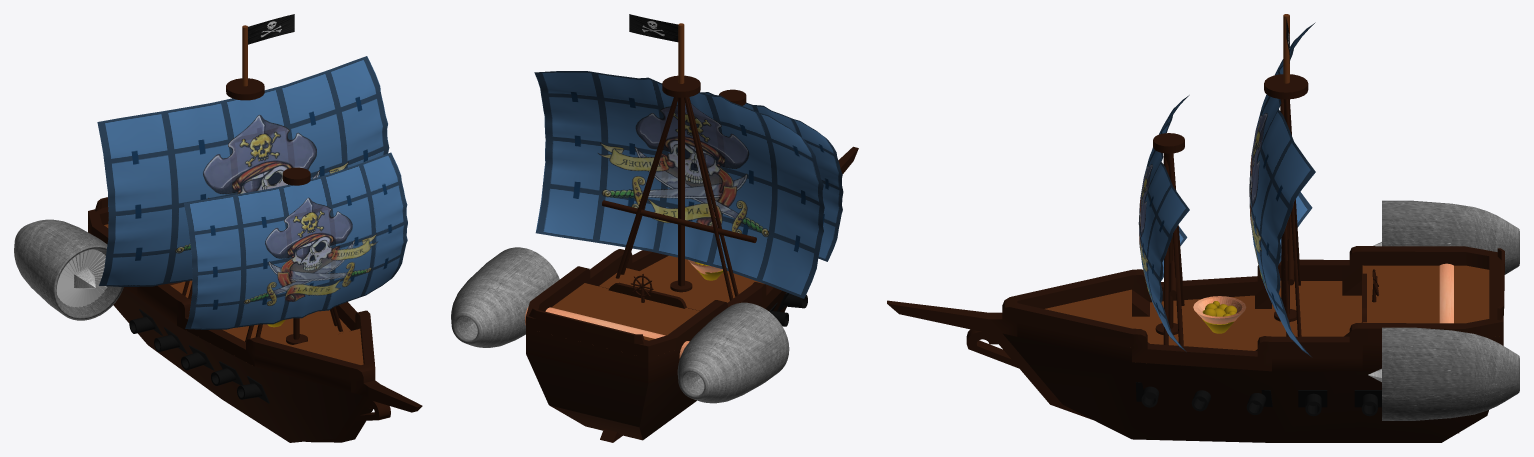
File: ship0fbx.fbx
3 views of the same model, side by side, from view 1: azimuth 30°, elevation 25°; view 2: azimuth 150°, elevation 25°; view 3: azimuth 270°, elevation 25° (orthographic). The views are drawn at different scales.
Parts seen in each view (by area): view 1: Sails, NewBoatBase, Engines, Cannon, NewBoatBaseDetails, Blades, Flags; view 2: Sails, NewBoatBase, Engines, NewBoatBaseDetails, Flags, polySurface1, Cannon, Flagpole; view 3: NewBoatBase, Engines, Sails, NewBoatBaseDetails, Cannon, polySurface1, polySurface2, Gold.
Part boxes in pixels (<box>): Sails: <box>97,56,407,329</box>; NewBoatBase: <box>88,207,422,442</box>; Engines: <box>14,219,123,320</box>; Cannon: <box>129,309,269,403</box>; NewBoatBaseDetails: <box>95,78,342,344</box>; Blades: <box>56,249,107,307</box>; Flags: <box>248,14,294,44</box>; Sails: <box>534,71,843,298</box>; NewBoatBase: <box>526,146,858,442</box>; Engines: <box>451,247,789,403</box>; NewBoatBaseDetails: <box>529,75,756,344</box>; Flags: <box>629,14,678,42</box>; polySurface1: <box>525,307,689,358</box>; Cannon: <box>769,292,807,326</box>; Flagpole: <box>678,23,684,83</box>; NewBoatBase: <box>887,246,1503,442</box>; Engines: <box>1368,200,1519,420</box>; Sails: <box>1138,22,1315,356</box>; NewBoatBaseDetails: <box>1132,74,1504,350</box>; Cannon: <box>1135,382,1381,416</box>; polySurface1: <box>1439,263,1453,323</box>; polySurface2: <box>1193,296,1246,324</box>; Gold: <box>1202,301,1236,333</box>.
Bounding box in the file's own units: 17.61 × 20.34 × 28.1.
12 materials, 4 textured.
